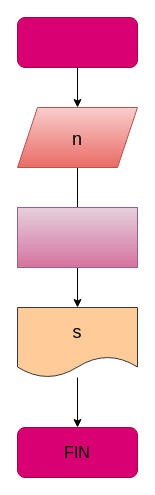
Image size: 155x495. Some labels were removed from this diagram. The centre of each missing label's shape, as x and y in pixels:
INICIO: [77,42]
s = n(n+1)/2: [77,237]
